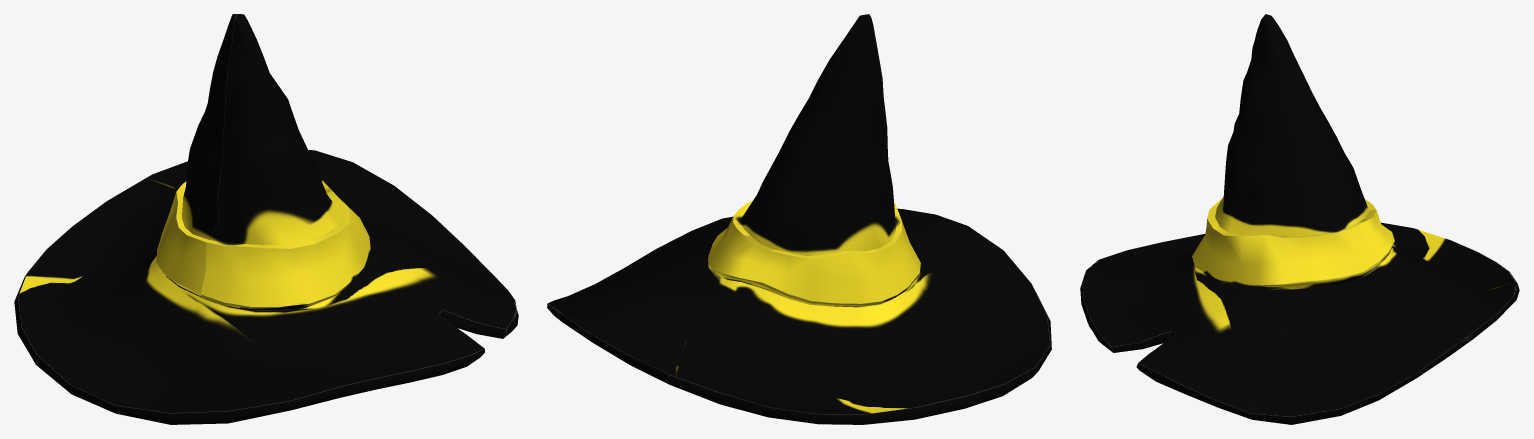
The model's file is hat1.glb.
3 renders of one model, left to right at view 1: azimuth 30°, elevation 25°; view 2: azimuth 150°, elevation 25°; view 3: azimuth 270°, elevation 25°, orthographic. The views are drawn at different scales.
Parts seen in each view (by area): view 1: hat_LP; view 2: hat_LP; view 3: hat_LP.
Part boxes in pixels (x1,y1,x2,y2): hat_LP: (14, 14, 518, 424); hat_LP: (547, 14, 1051, 424); hat_LP: (1080, 14, 1519, 424).
Size of the model in its own units: 7.67 by 5.72 by 7.62.
Materials: 7 (1 with a texture image).
